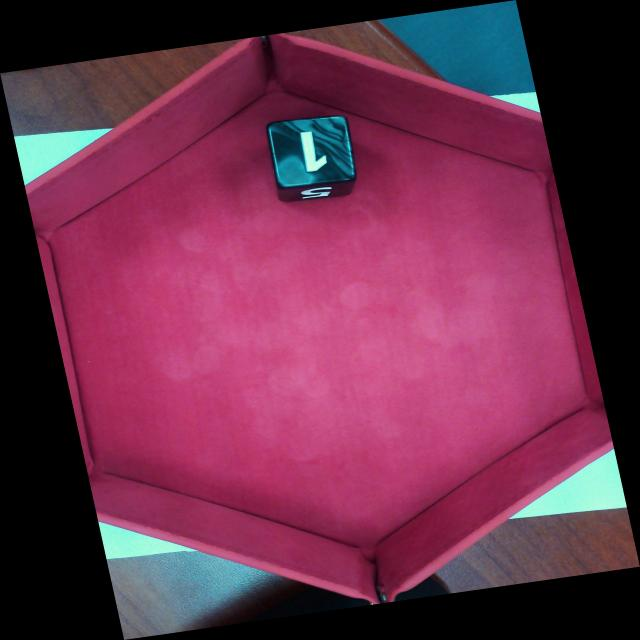dice: (267, 111, 359, 192)
